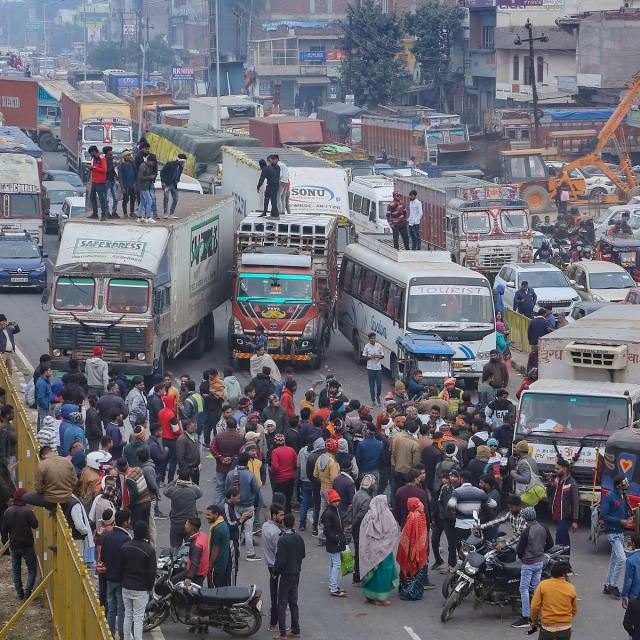autorickshaw: (396, 334, 455, 386)
bus: (338, 236, 495, 379), (348, 175, 392, 233)
car: (494, 262, 580, 316), (568, 261, 635, 302), (0, 232, 48, 289), (42, 181, 79, 232)
motorcycle: (442, 495, 526, 599), (144, 576, 261, 637), (441, 551, 521, 621)
truck: (49, 195, 234, 375), (515, 304, 640, 503), (500, 71, 640, 212), (229, 212, 338, 368), (395, 176, 531, 279), (60, 90, 134, 175), (362, 114, 469, 162), (0, 152, 44, 247)
